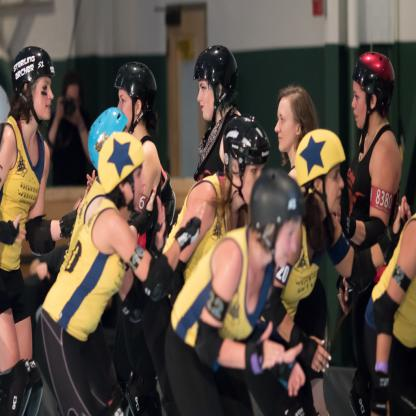Helmet: (250, 166, 304, 266), (293, 130, 347, 220), (222, 112, 269, 209), (353, 51, 395, 152), (96, 128, 144, 215), (9, 46, 54, 127), (194, 46, 237, 130), (107, 63, 158, 129), (88, 109, 128, 173)
